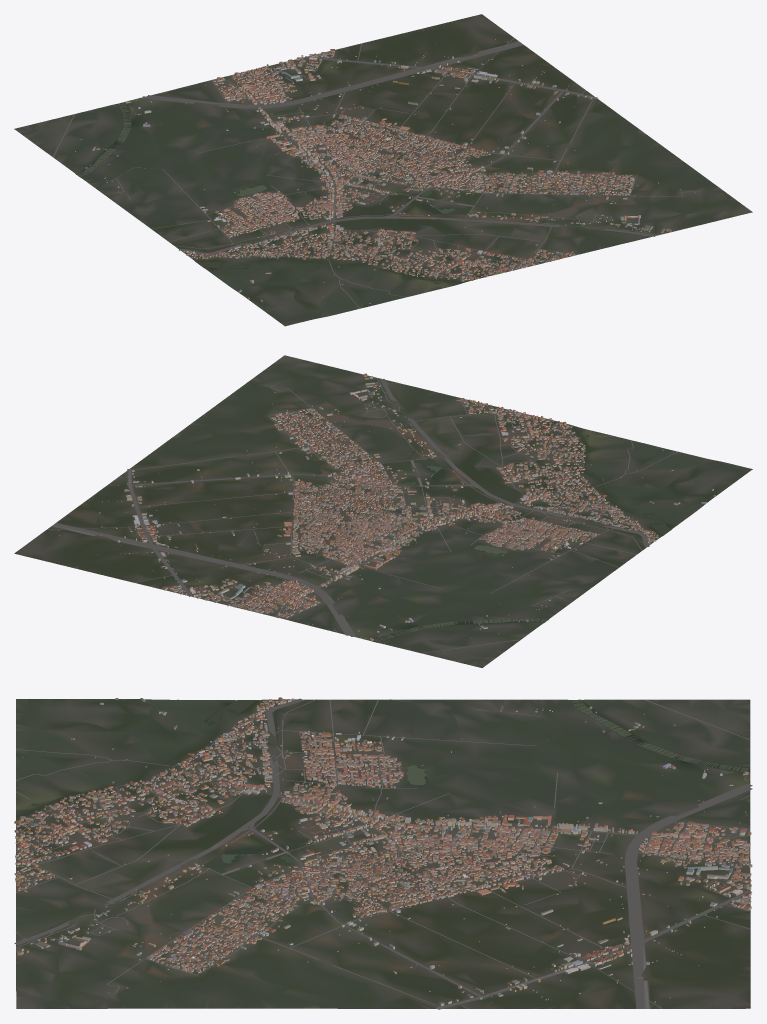
The picture shows the model from 3 angles, top to bottom: view 1: azimuth 30°, elevation 25°; view 2: azimuth 150°, elevation 25°; view 3: azimuth 270°, elevation 25°; orthographic projection. The views are drawn at different scales.
Parts seen in each view (by area): view 1: ground, buildings, roads, water; view 2: ground, buildings, roads, water; view 3: ground, buildings, roads, water.
Boxes of the visible parts, x1=… form: ground: x1=14, y1=14, x2=752, y2=326; buildings: x1=75, y1=39, x2=695, y2=303; roads: x1=53, y1=38, x2=695, y2=308; water: x1=76, y1=103, x2=463, y2=284; ground: x1=14, y1=355, x2=752, y2=667; buildings: x1=58, y1=373, x2=715, y2=640; roads: x1=47, y1=378, x2=705, y2=653; water: x1=300, y1=435, x2=670, y2=642; ground: x1=16, y1=699, x2=750, y2=1008; buildings: x1=14, y1=697, x2=752, y2=1006; roads: x1=14, y1=698, x2=752, y2=1009; water: x1=31, y1=699, x2=748, y2=907.
Size of the model in its own units: 2815 by 33.23 by 2821.
